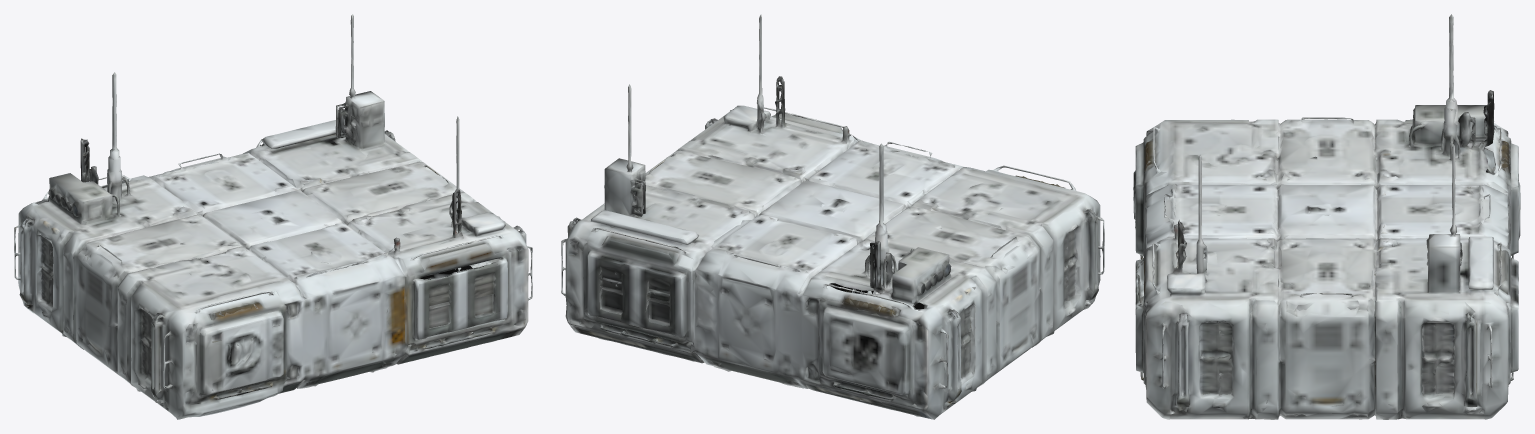
Rendered from human_garrison_deployed.glb.
3 views of the same model, side by side, from view 1: azimuth 30°, elevation 25°; view 2: azimuth 150°, elevation 25°; view 3: azimuth 270°, elevation 25° (orthographic). The views are drawn at different scales.
Parts seen in each view (by area): view 1: Mesh1.0; view 2: Mesh1.0; view 3: Mesh1.0.
Part boxes in pixels (x1,y1,x2,y2): Mesh1.0: [14, 14, 532, 419]; Mesh1.0: [561, 14, 1104, 419]; Mesh1.0: [1133, 14, 1520, 419].
Bounding box in the file's own units: 1.91 × 1.18 × 1.57.
Materials: 1 (1 with a texture image).
